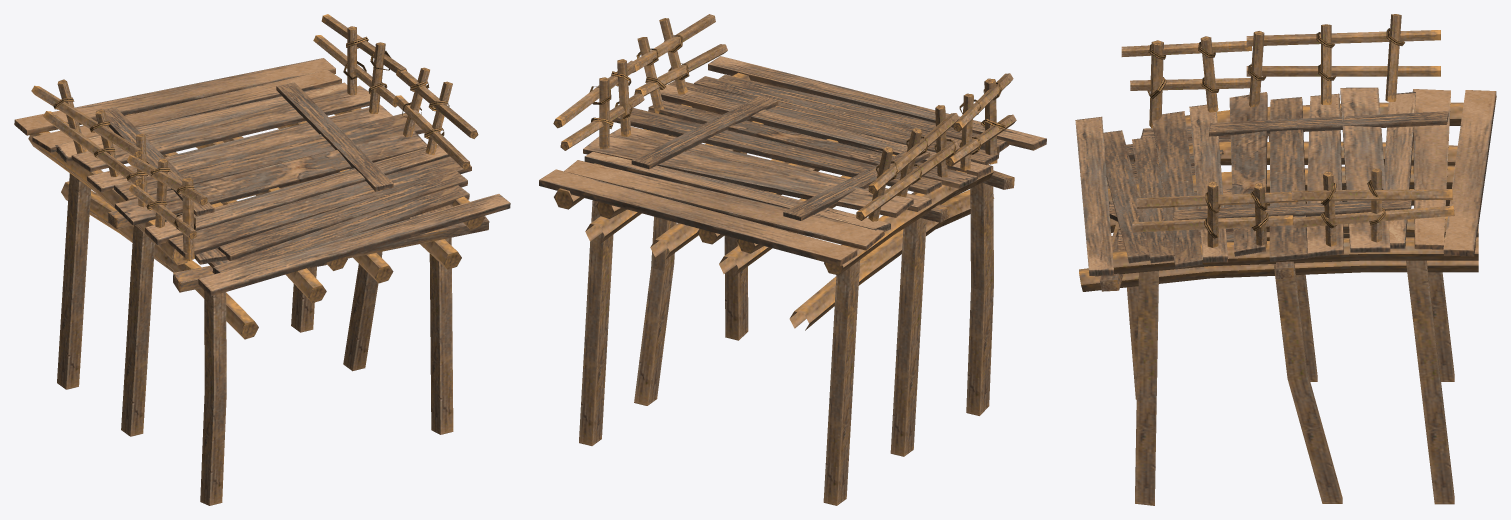
File: Item_5008_shitou_muqiao02.FBX
3 views of the same model, side by side, from view 1: azimuth 30°, elevation 25°; view 2: azimuth 150°, elevation 25°; view 3: azimuth 270°, elevation 25° (orthographic). The views are drawn at different scales.
Parts seen in each view (by area): view 1: Item_5008_shitou_muqiao02; view 2: Item_5008_shitou_muqiao02; view 3: Item_5008_shitou_muqiao02.
Part boxes in pixels (x1,y1,x2,y2): Item_5008_shitou_muqiao02: [14, 14, 510, 505]; Item_5008_shitou_muqiao02: [539, 14, 1046, 505]; Item_5008_shitou_muqiao02: [1075, 14, 1496, 505].
Bounding box in the file's own units: 519 × 540 × 559.
